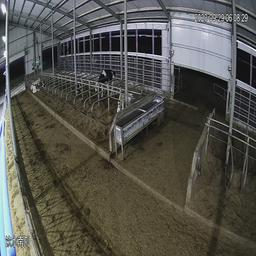cow: (91, 56, 114, 97), (116, 86, 128, 113), (29, 77, 42, 94)
